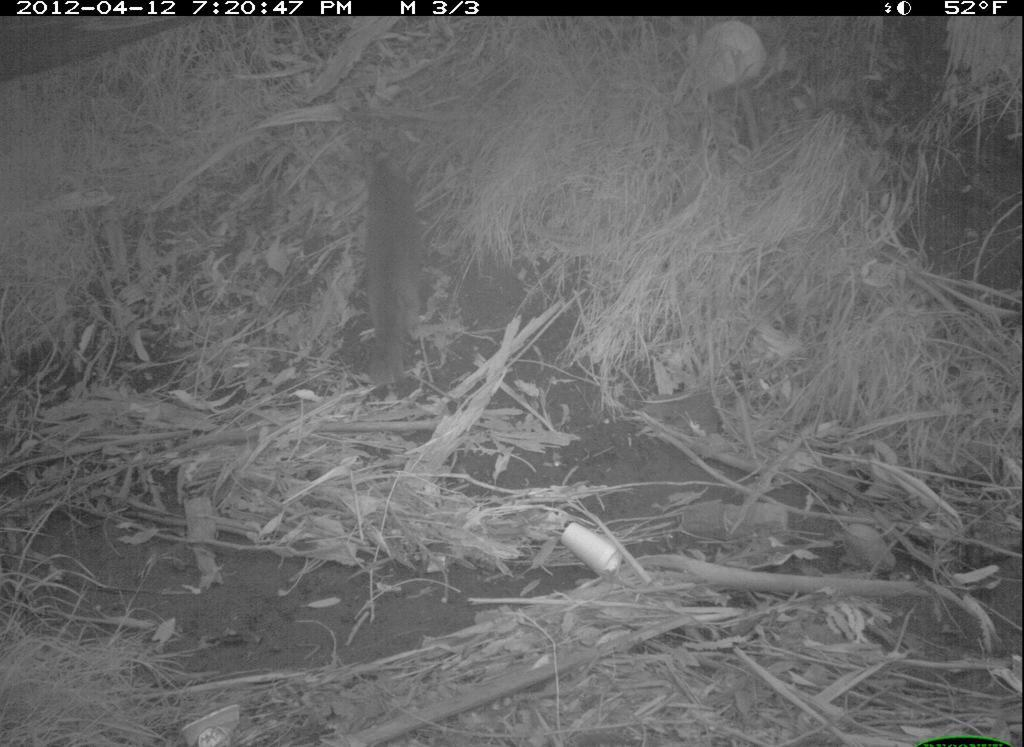cat: (350, 136, 441, 378)
